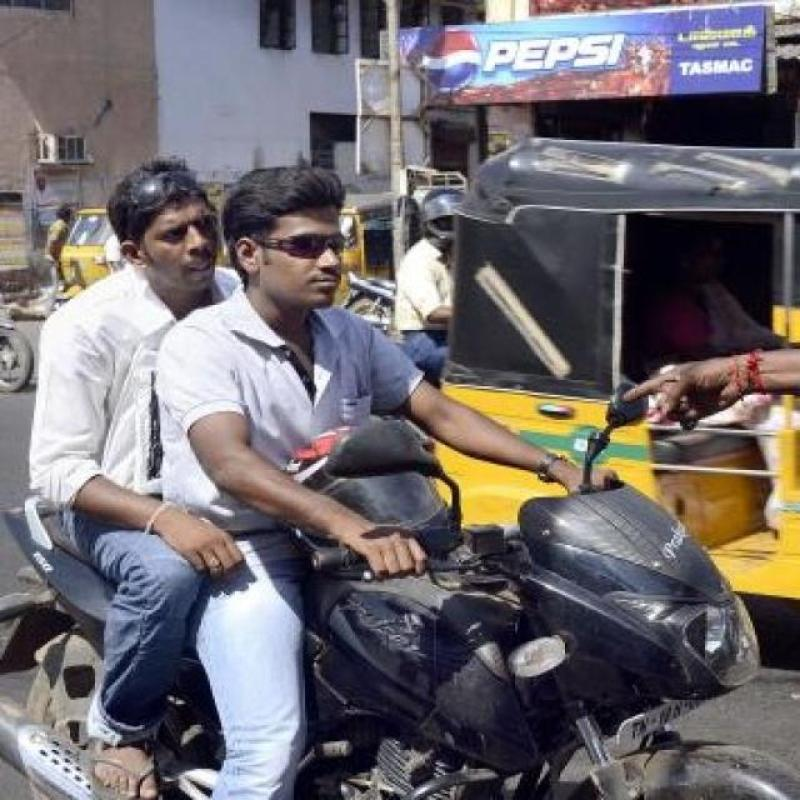nohelmet: (222, 148, 356, 322), (98, 137, 224, 308)
